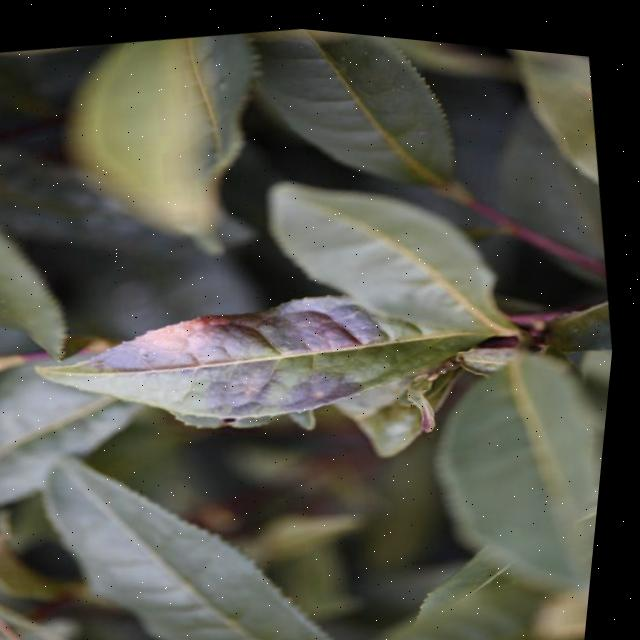Tea exobasidium blight: (100, 262, 406, 446)
